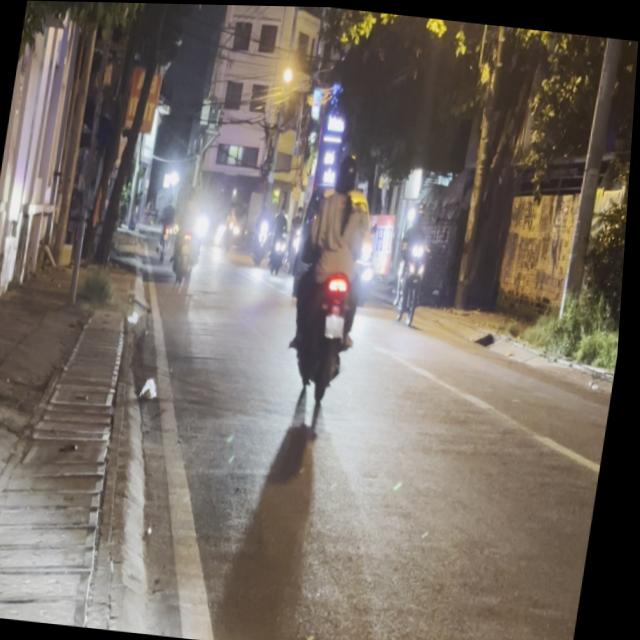helmet: (335, 151, 363, 193)
licenseplate: (274, 145, 389, 418)
nohelmet: (328, 312, 351, 336)
